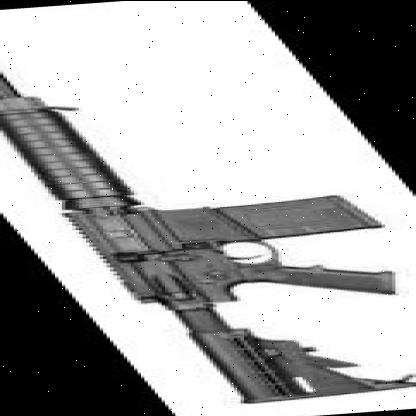rifle: (0, 11, 416, 402)
